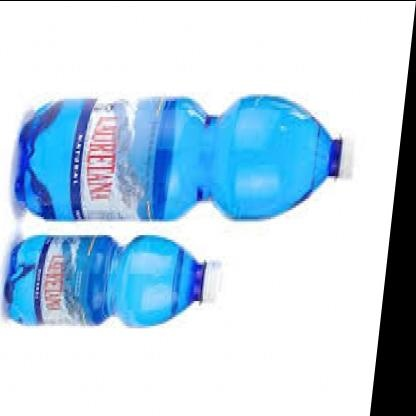trash: (15, 95, 341, 219), (5, 236, 204, 325)
